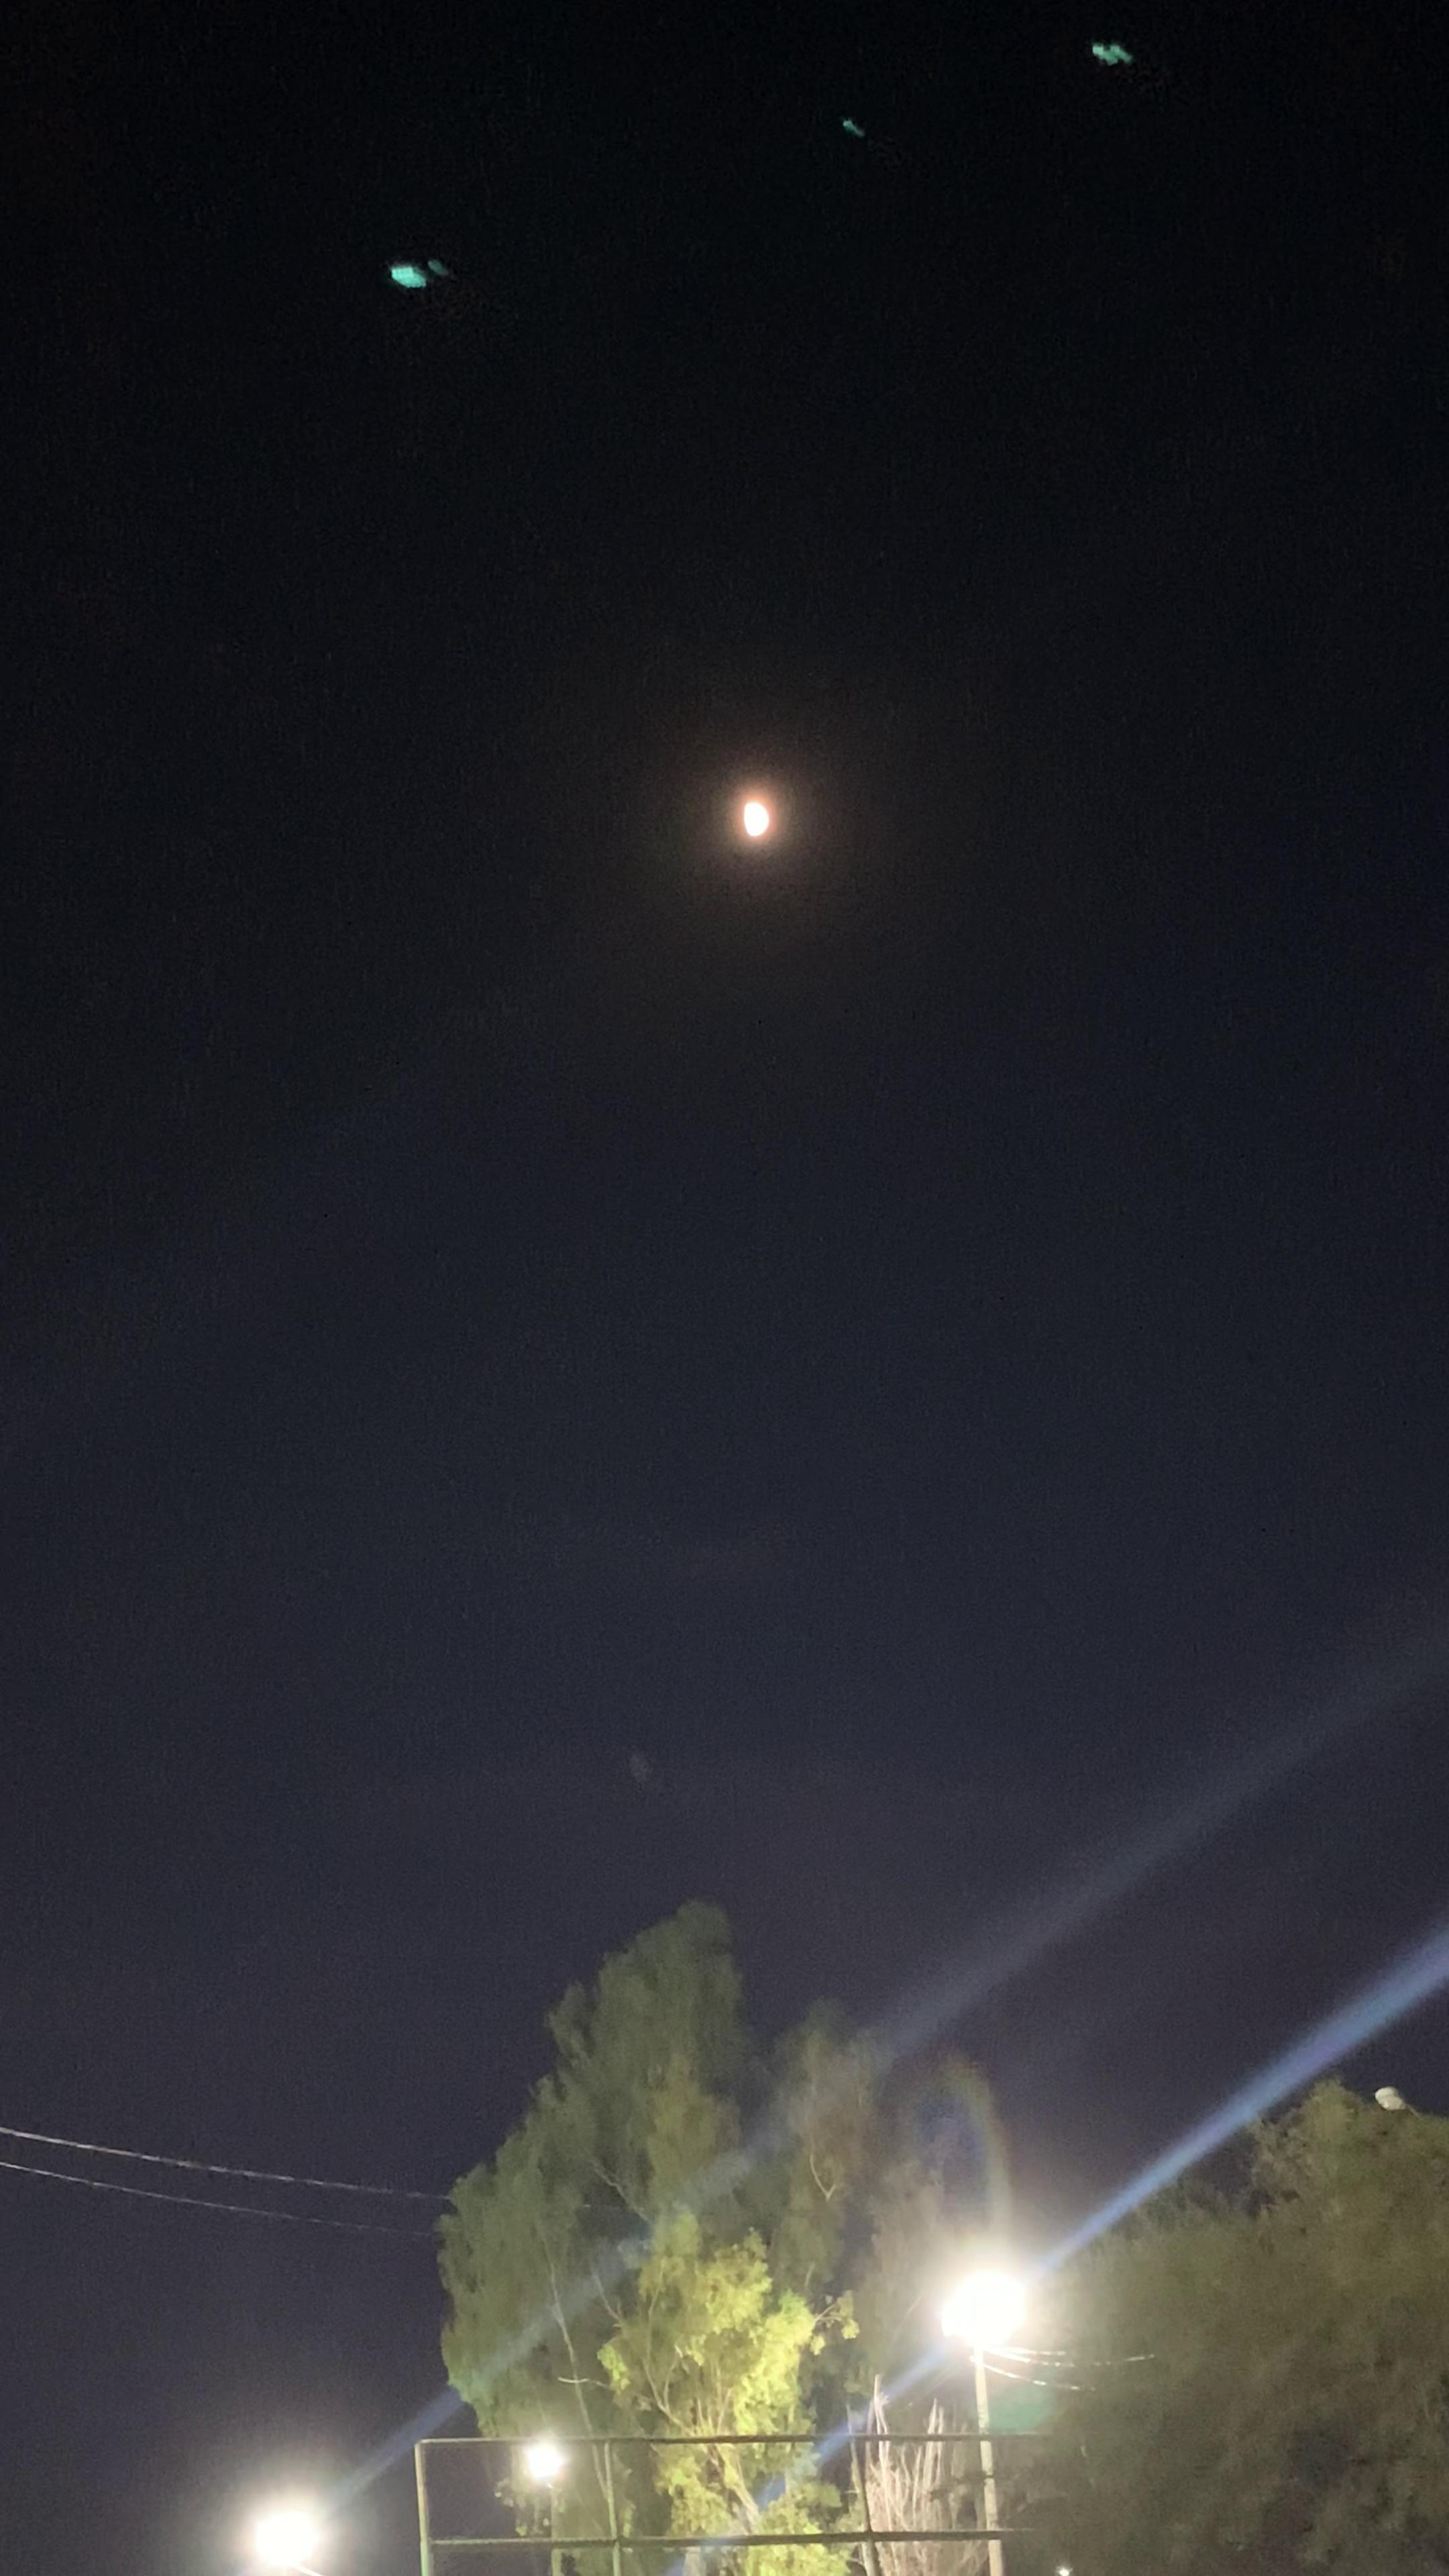moon: (699, 741, 826, 853)
